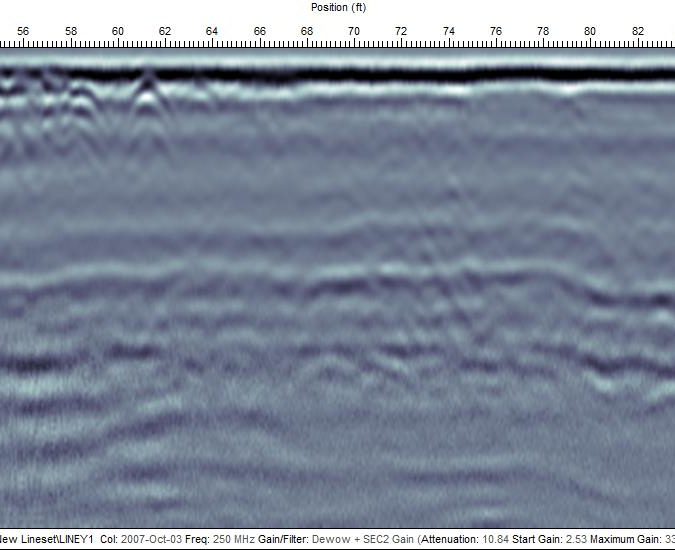hyperbola: (118, 85, 180, 156), (63, 83, 111, 151)
